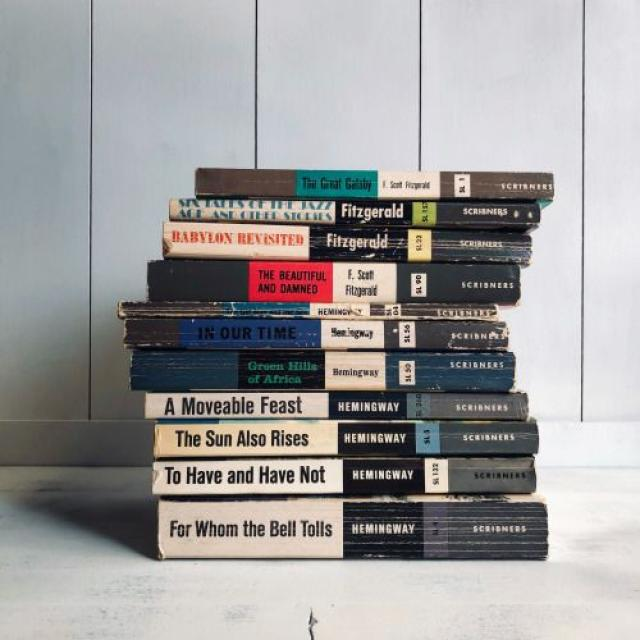book: (158, 501, 548, 558), (131, 350, 514, 392), (148, 259, 518, 302), (164, 222, 531, 264), (151, 458, 537, 494), (156, 424, 538, 458), (125, 319, 509, 350), (195, 168, 554, 201), (145, 394, 529, 421), (169, 198, 541, 225), (118, 301, 501, 319)
